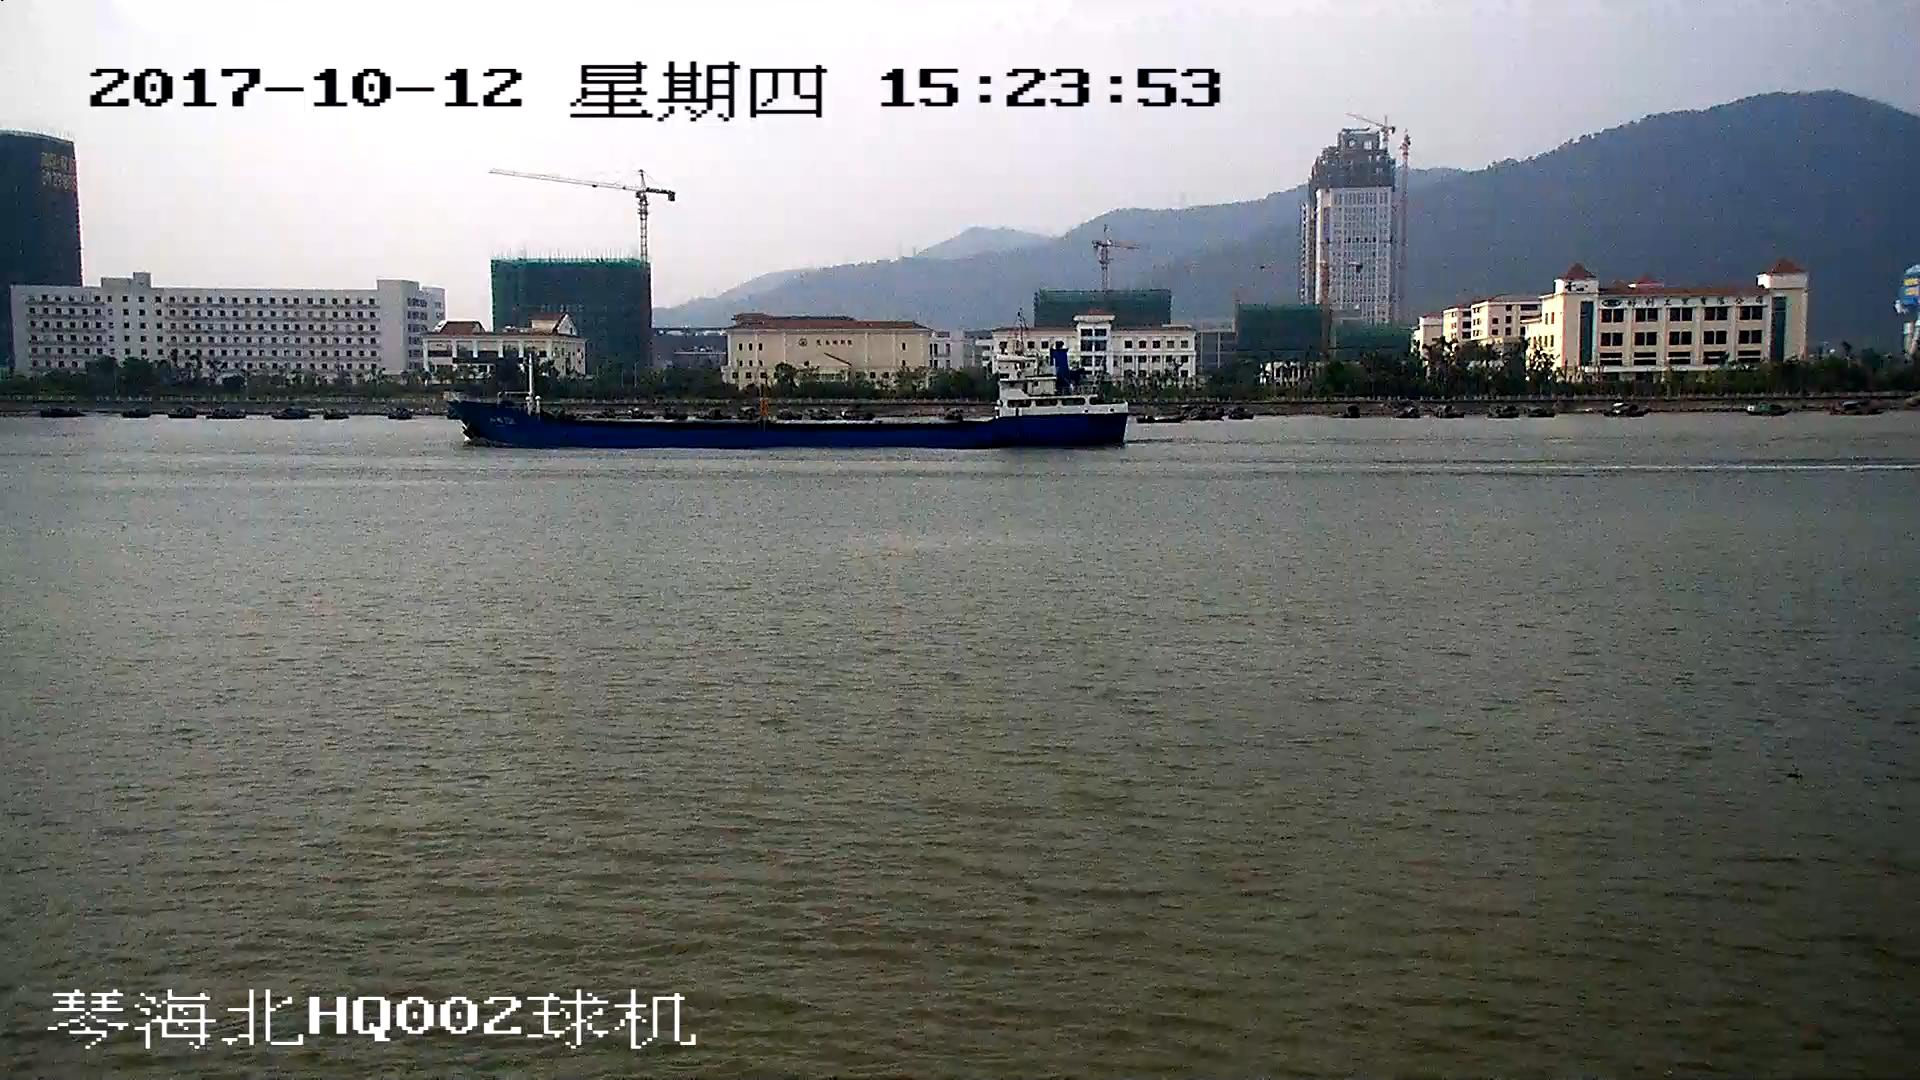general cargo ship: (452, 340, 1126, 450)
